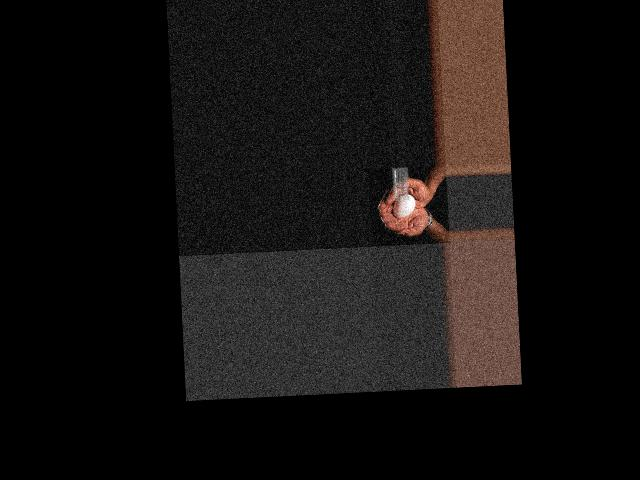egg: (391, 194, 415, 218)
